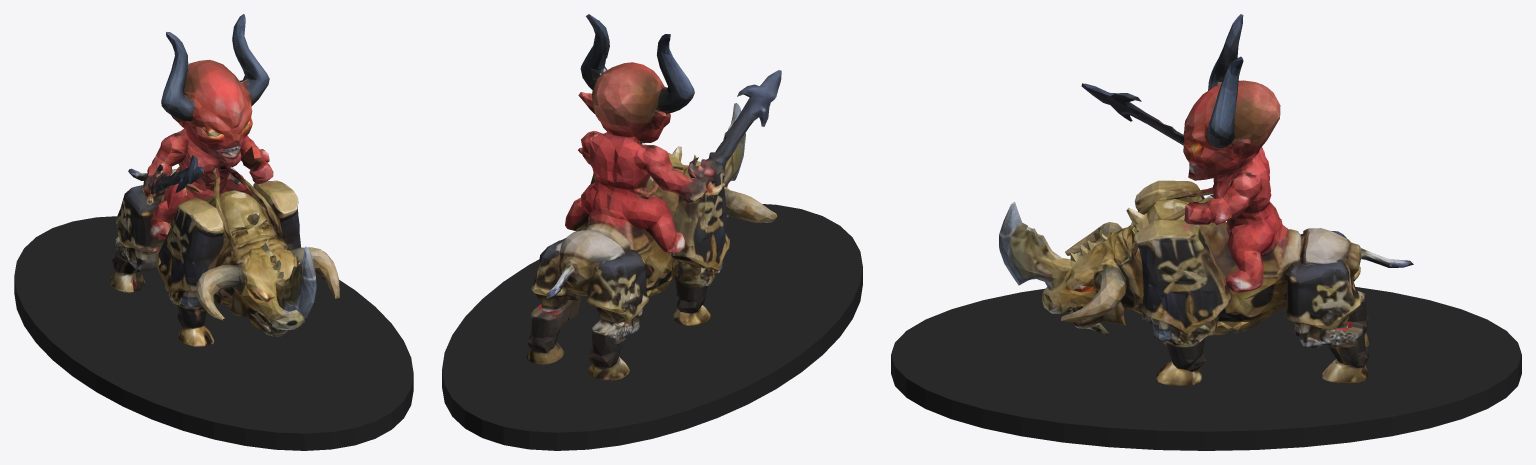
File: bloodcrusher.glb
3 views of the same model, side by side, from view 1: azimuth 30°, elevation 25°; view 2: azimuth 150°, elevation 25°; view 3: azimuth 270°, elevation 25° (orthographic). The views are drawn at different scales.
Parts seen in each view (by area): view 1: base, figure; view 2: base, figure; view 3: base, figure.
Boxes of the visible parts, box(x1,y1,x2,y2) form: base: box(14, 216, 413, 450); figure: box(110, 14, 339, 346); base: box(442, 204, 862, 450); figure: box(526, 14, 781, 380); base: box(891, 287, 1521, 450); figure: box(999, 14, 1413, 386).
Bounding box in the file's own units: 2.05 × 2.12 × 3.54.
2 materials, 1 textured.
